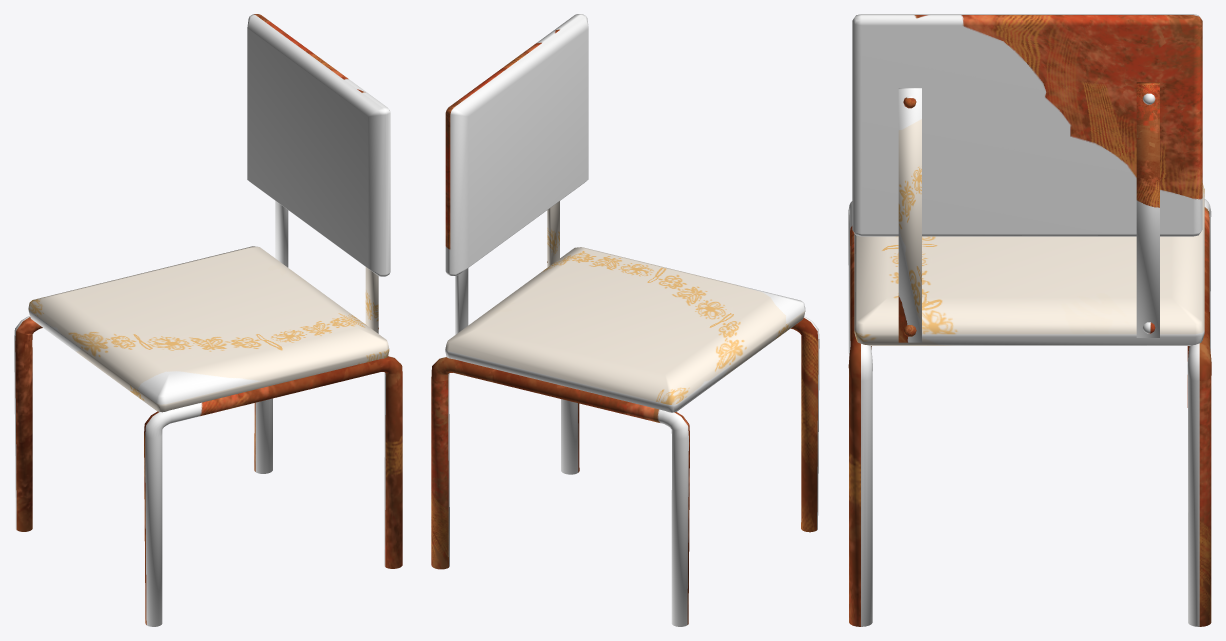
File: DinerChair.obj
The picture shows the model from 3 angles, left to right: view 1: azimuth 30°, elevation 25°; view 2: azimuth 150°, elevation 25°; view 3: azimuth 270°, elevation 25°; orthographic projection. The views are drawn at different scales.
Visible parts, largest first — view 1: DinerChairNoUvNoTexture; view 2: DinerChairNoUvNoTexture; view 3: DinerChairNoUvNoTexture.
Part boxes in pixels (x1=…): DinerChairNoUvNoTexture: x1=14, y1=14, x2=402, y2=626; DinerChairNoUvNoTexture: x1=431, y1=14, x2=819, y2=626; DinerChairNoUvNoTexture: x1=848, y1=14, x2=1211, y2=626.
Size of the model in its own units: 0.9605 by 1.64 by 0.9024.
